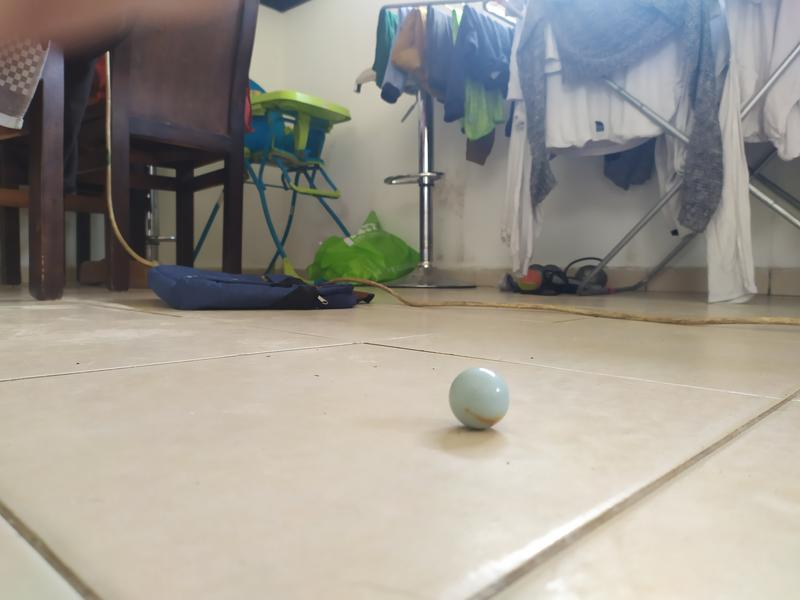Warning: (445, 364, 512, 433)
